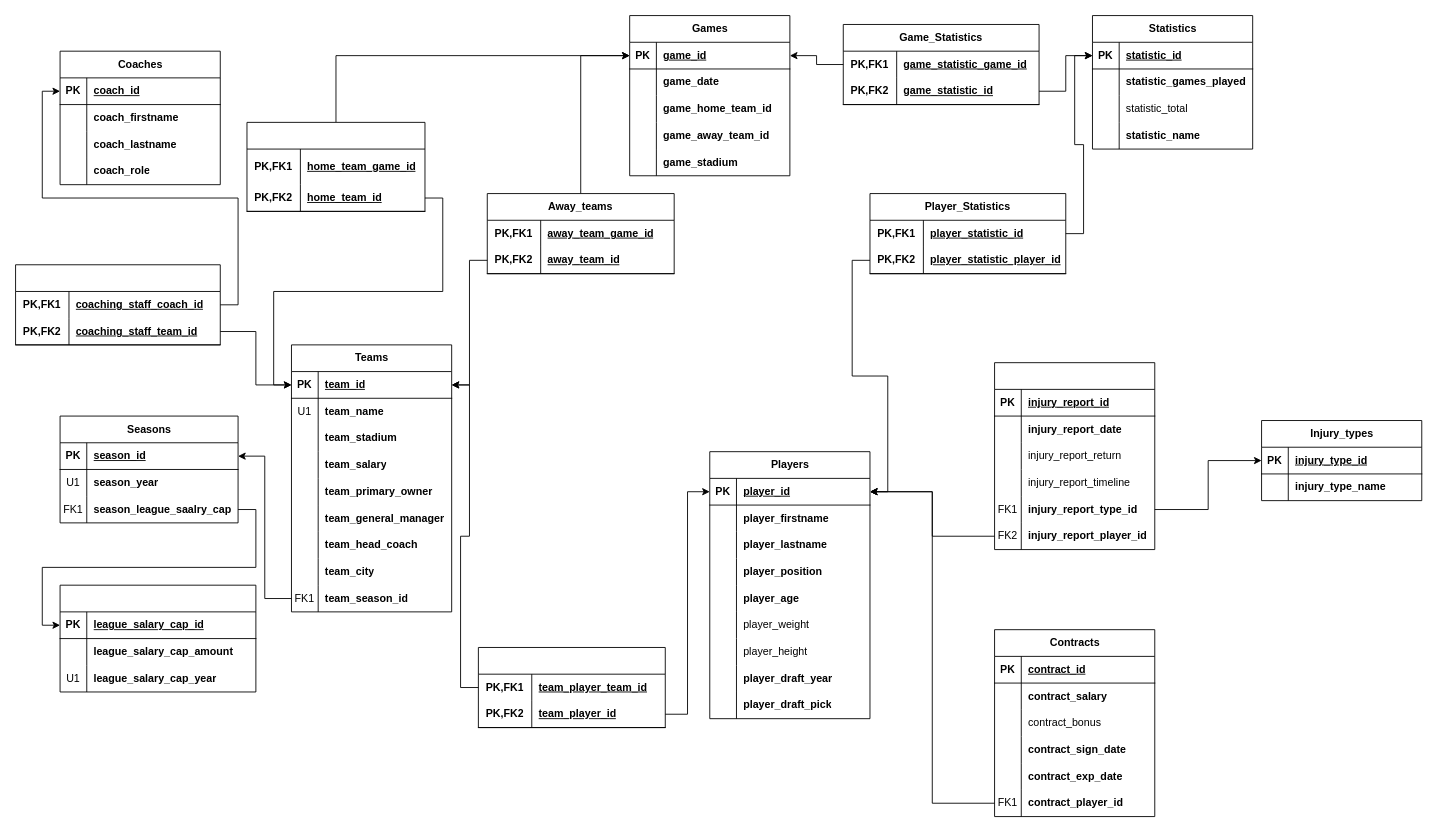
Some shapes in this 1437 by 832 pixel diagram are drawn without their labels. The box of each missing label's shape, as (x1, y1, x2, y2) in pixels:
Coaching_Staffs: (15, 264, 220, 345)
Home_Teams: (246, 121, 425, 211)
Injury_Reports: (994, 362, 1155, 550)
League_Salary_Caps: (59, 584, 256, 692)
Team_Players: (477, 647, 665, 728)
